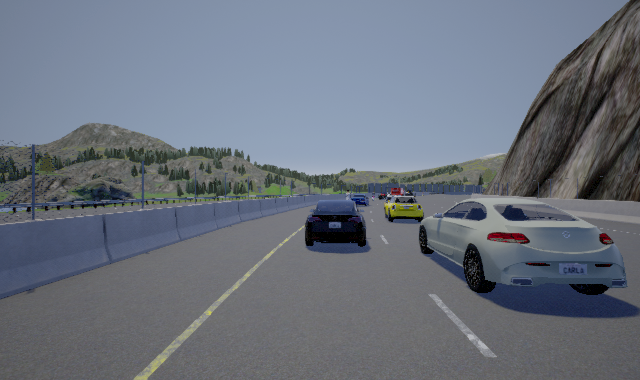vehicle: (416, 188, 628, 291), (305, 194, 369, 247), (384, 193, 424, 224)
